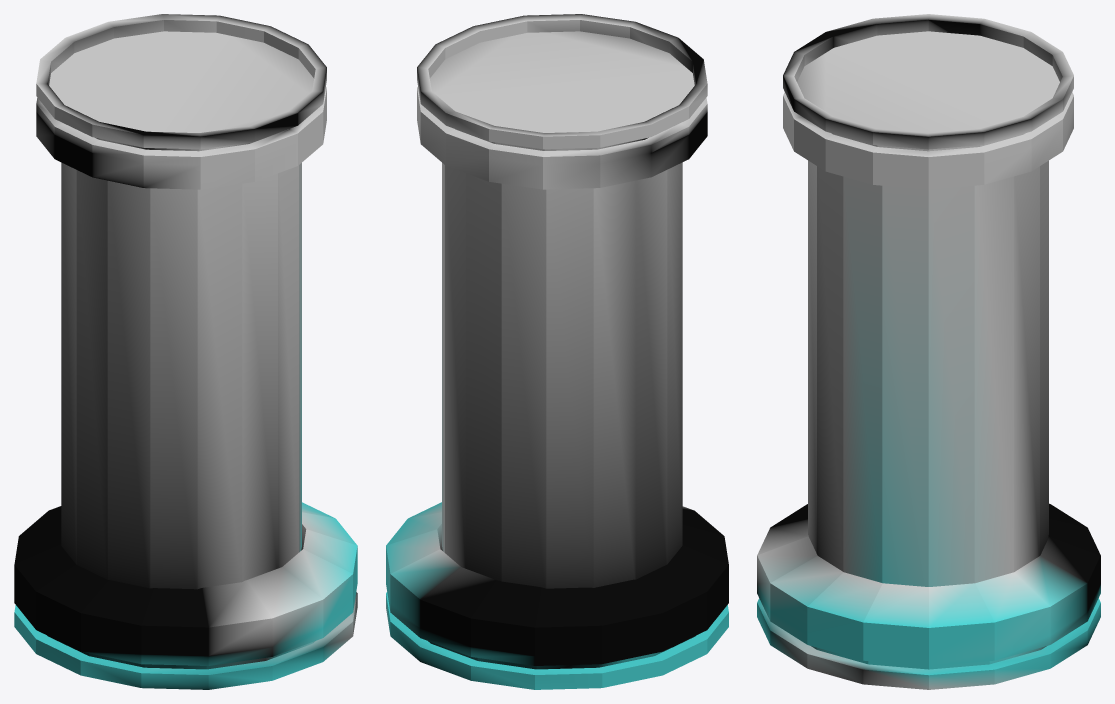
The model's file is incubadora_2.0.glb.
3 views of the same model, side by side, from view 1: azimuth 30°, elevation 25°; view 2: azimuth 150°, elevation 25°; view 3: azimuth 270°, elevation 25° (orthographic).
Parts seen in each view (by area): view 1: Cylinder-col; view 2: Cylinder-col; view 3: Cylinder-col.
Part boxes in pixels (bbox=[...]): Cylinder-col: bbox=[14, 14, 357, 689]; Cylinder-col: bbox=[386, 14, 728, 689]; Cylinder-col: bbox=[757, 14, 1100, 689].
Size of the model in its own units: 1.92 by 3.32 by 1.92.
